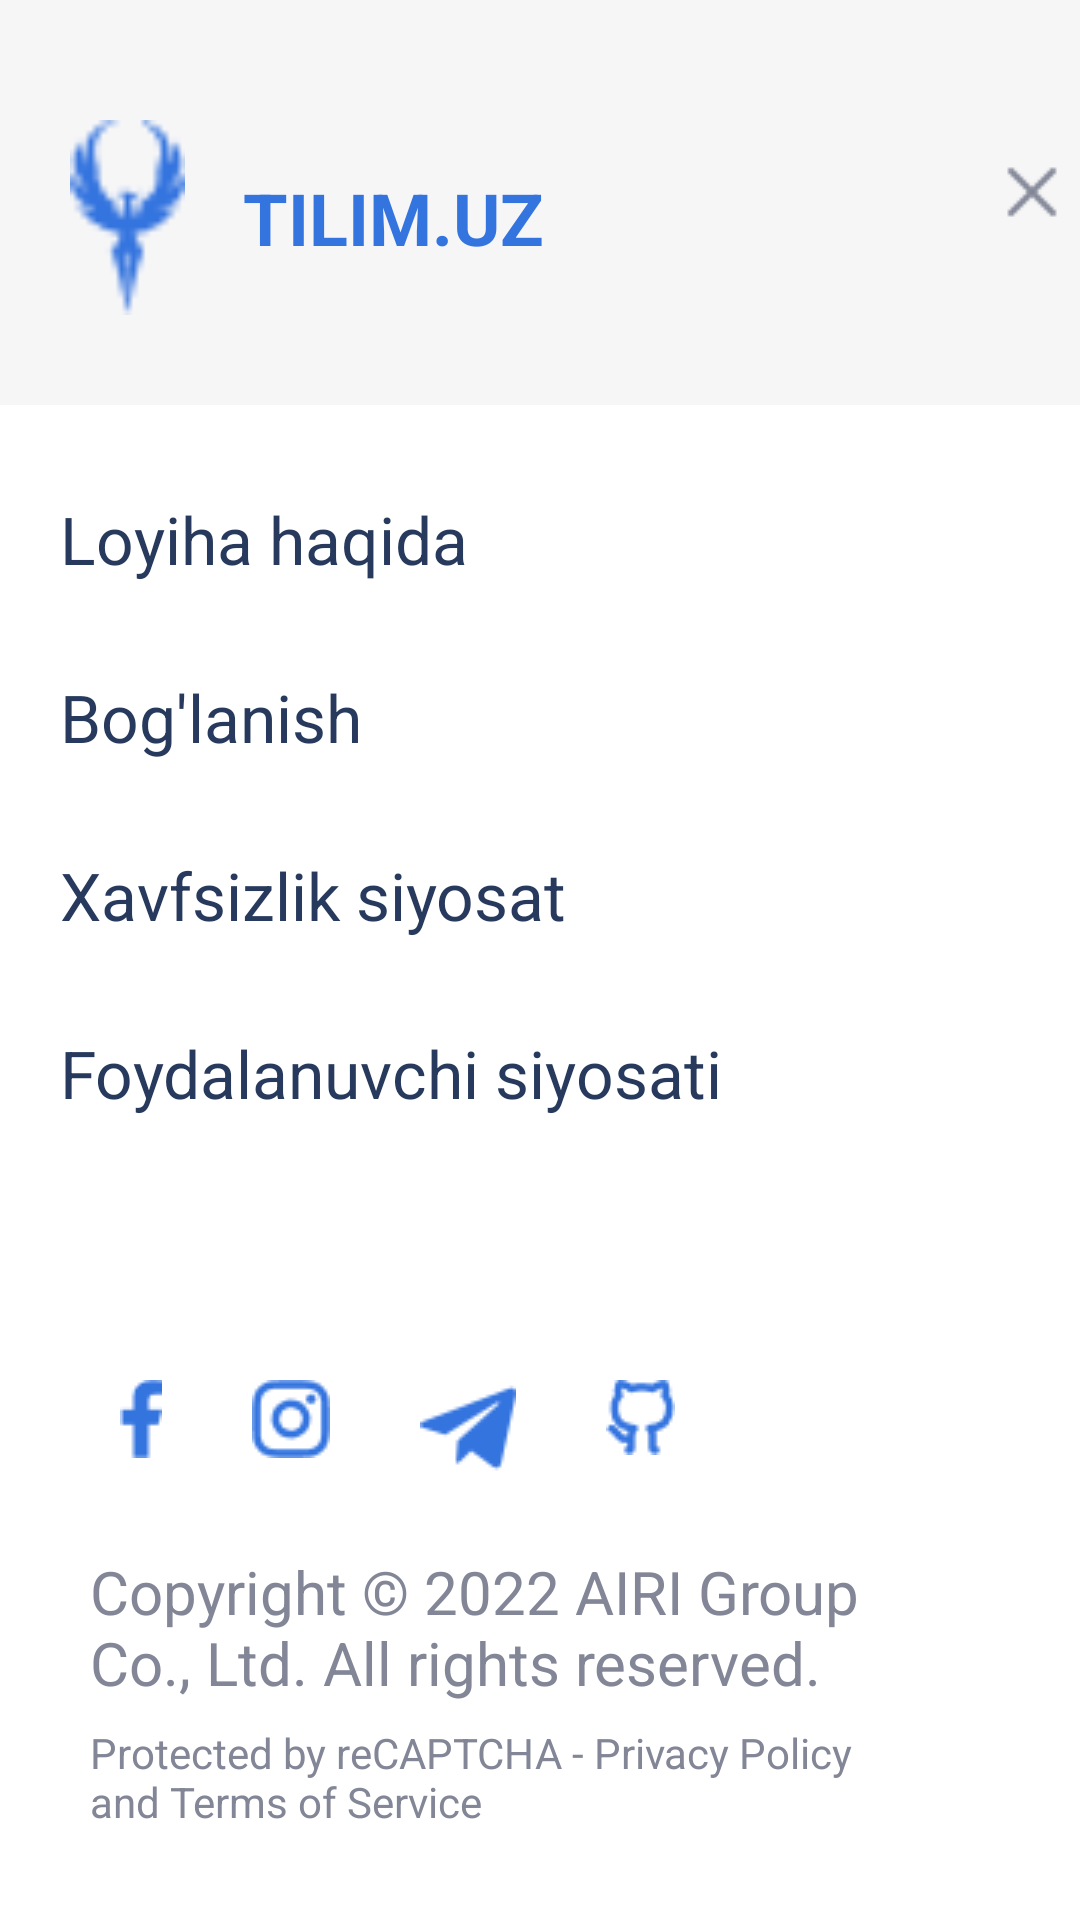

Icon click points for this 1080px×1920px phone screenshot, format [x,y]:
cancel: [1032,192]
